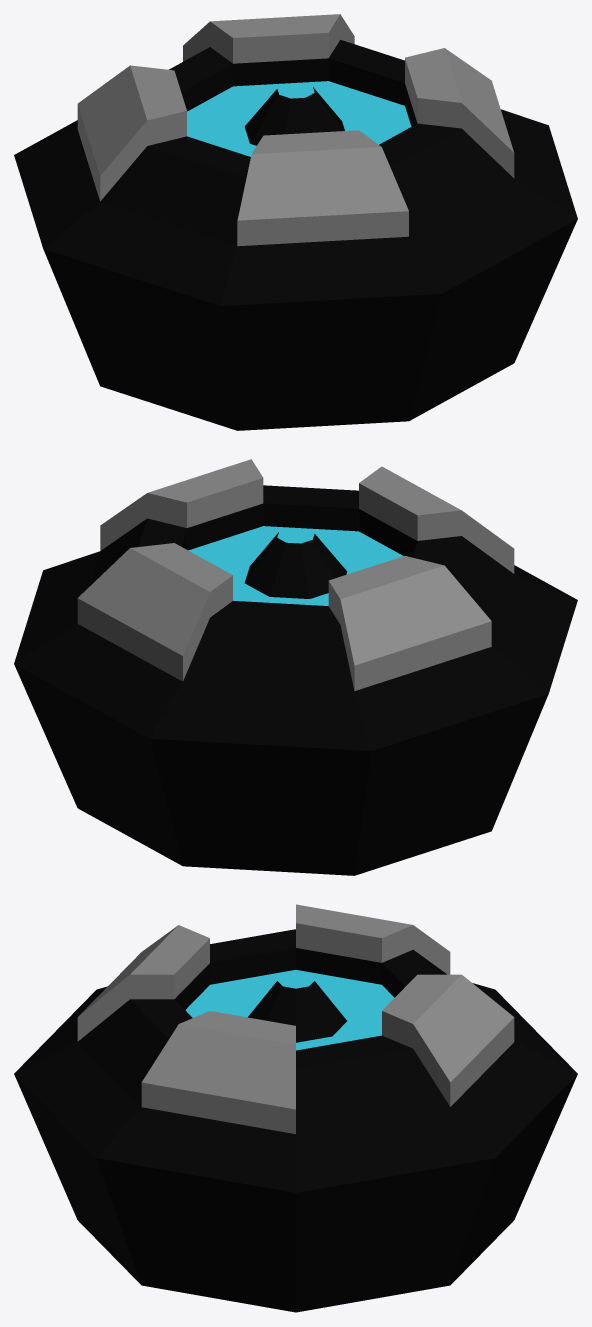
Rendered from Proyector.fbx.
The picture shows the model from 3 angles, top to bottom: view 1: azimuth 30°, elevation 25°; view 2: azimuth 150°, elevation 25°; view 3: azimuth 270°, elevation 25°; orthographic projection. The views are drawn at different scales.
Visible parts, largest first — view 1: Cylinder; view 2: Cylinder; view 3: Cylinder.
Boxes of the visible parts, x1=… form: Cylinder: x1=14, y1=14, x2=577, y2=430; Cylinder: x1=14, y1=459, x2=577, y2=875; Cylinder: x1=14, y1=904, x2=577, y2=1312.
Bounding box in the file's own units: 123 × 59.2 × 123.
